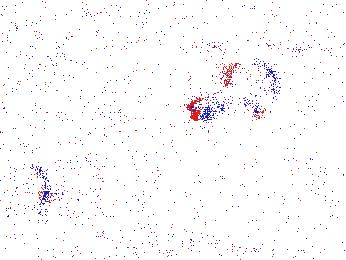flame jellyfish: (189, 57, 285, 122), (54, 162, 105, 209), (3, 166, 55, 208)
